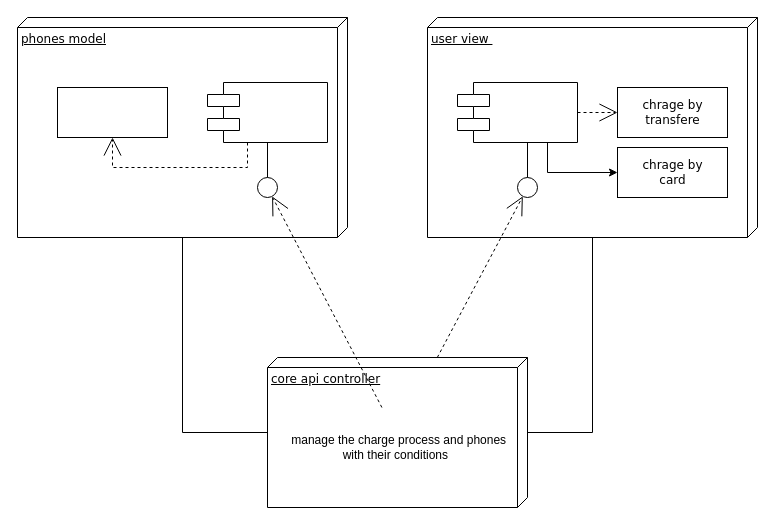
The diagram is 775 pixels wide and 525 high, and some of its shapes have lost their labels. The centre of each missing label's shape, as x and y in pixels:
Module: pixel 267 112
phones table: pixel 112 112
